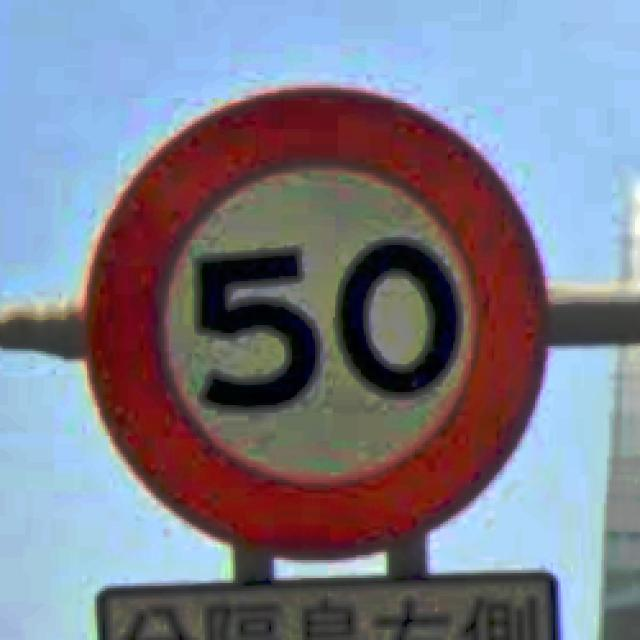max50: (77, 80, 550, 557)
